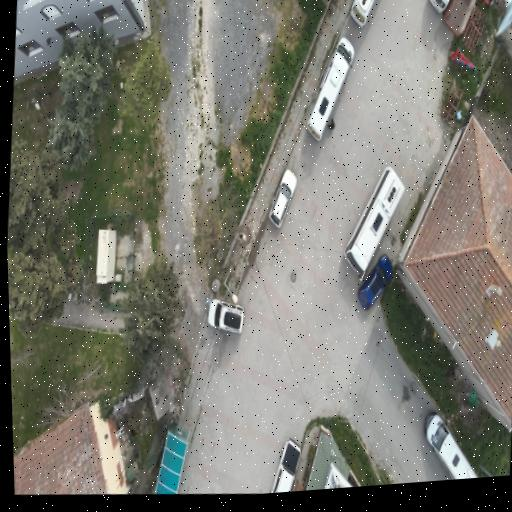bus: (345, 167, 404, 280), (307, 38, 355, 141), (350, 0, 376, 28), (430, 0, 450, 13)
car: (424, 413, 476, 479), (357, 255, 392, 310), (268, 170, 296, 228), (270, 439, 299, 492), (207, 299, 243, 332)
person: (327, 119, 333, 130)
truck: (443, 0, 475, 35)
